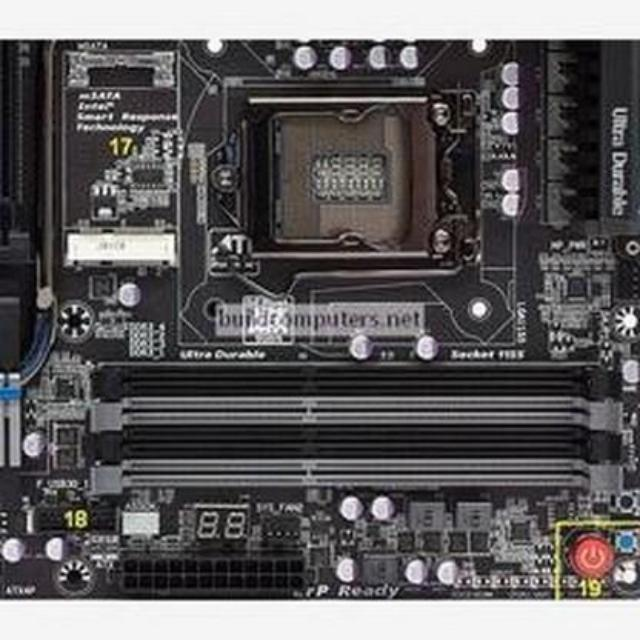Mainboard: (0, 36, 640, 601)
